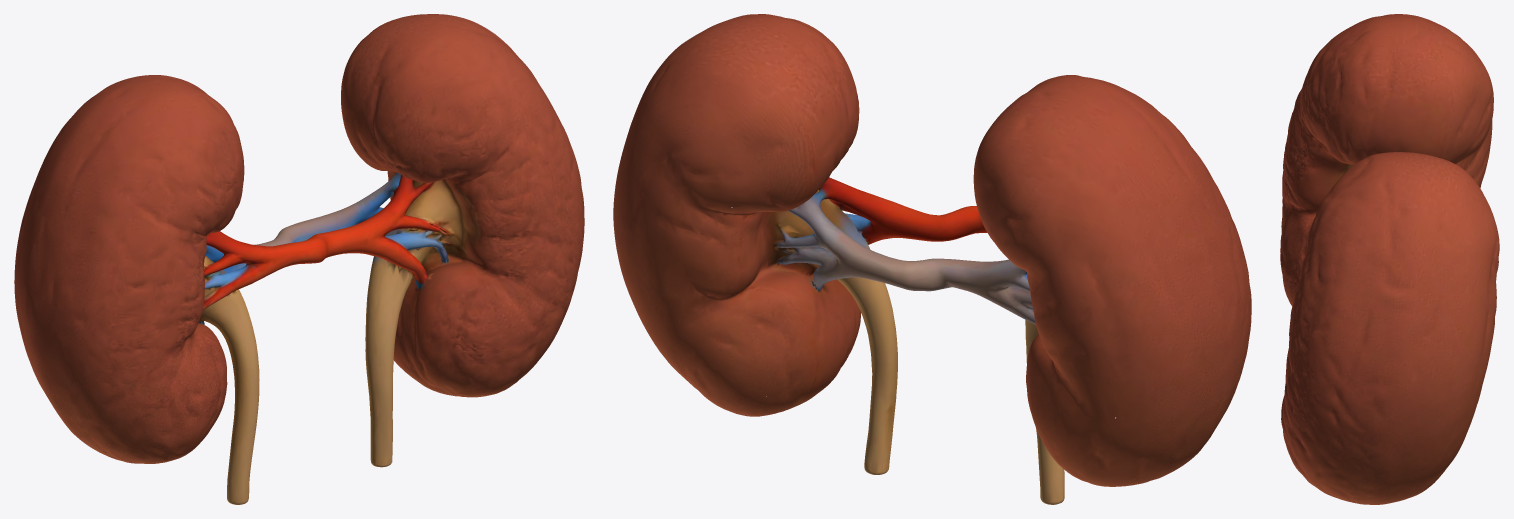
The model's file is kidneys.glb.
3 views of the same model, side by side, from view 1: azimuth 30°, elevation 25°; view 2: azimuth 150°, elevation 25°; view 3: azimuth 270°, elevation 25° (orthographic). The views are drawn at different scales.
Visible parts, largest first — view 1: tripo_node_e5de9656-5b36-4996-8f10-3690a202b494; view 2: tripo_node_e5de9656-5b36-4996-8f10-3690a202b494; view 3: tripo_node_e5de9656-5b36-4996-8f10-3690a202b494.
Boxes of the visible parts, <box> form: tripo_node_e5de9656-5b36-4996-8f10-3690a202b494: <box>14,14,584,504</box>; tripo_node_e5de9656-5b36-4996-8f10-3690a202b494: <box>613,14,1251,504</box>; tripo_node_e5de9656-5b36-4996-8f10-3690a202b494: <box>1280,14,1499,504</box>.
Size of the model in its own units: 32089 by 23587 by 12184.
Materials: 1 (1 with a texture image).
